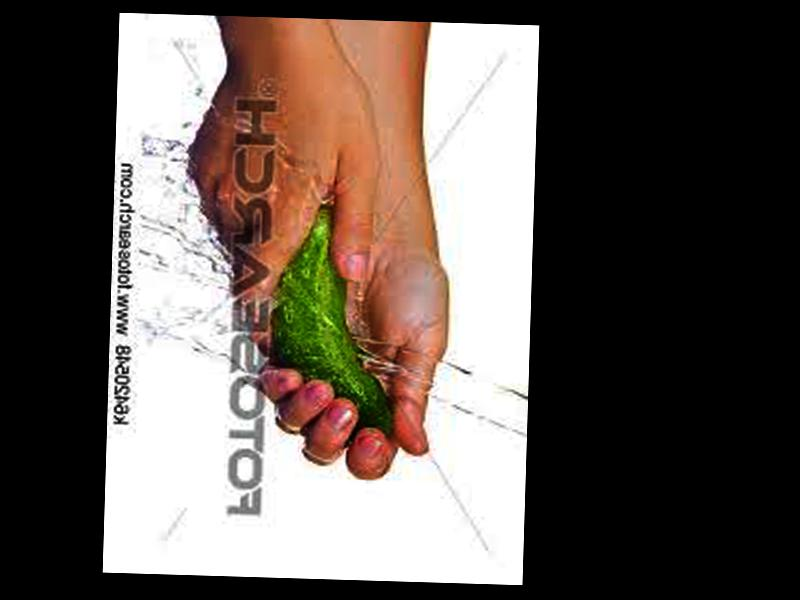Cucumber: (264, 197, 400, 438)
